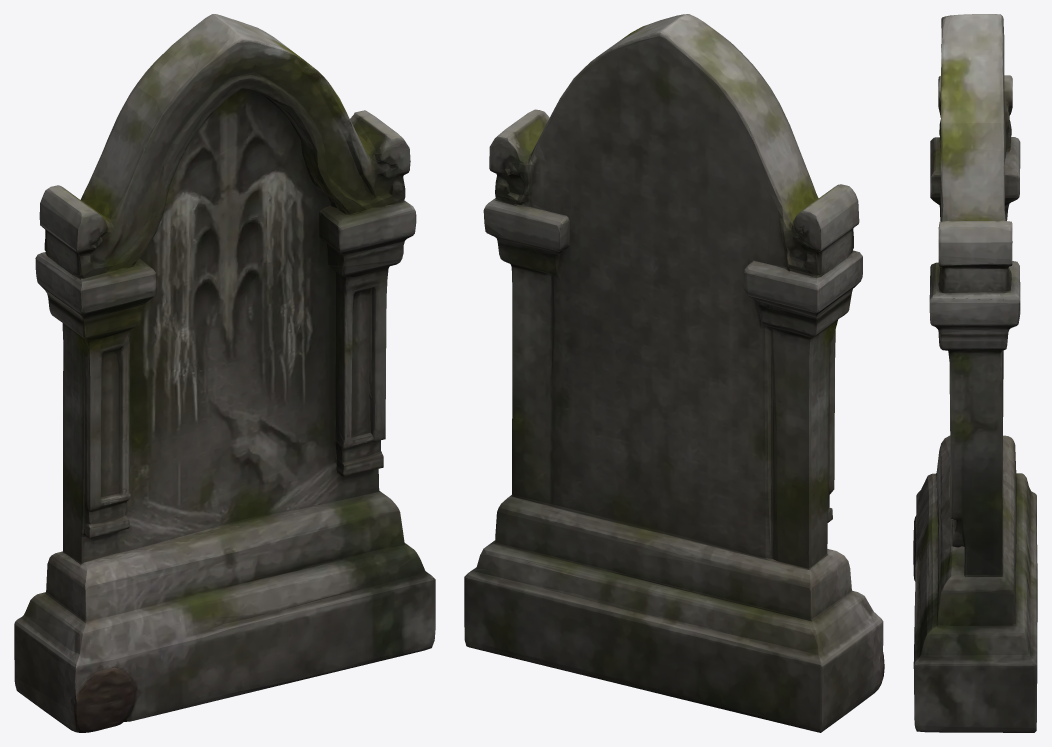
Rendered from tombstone_willow.glb.
3 views of the same model, side by side, from view 1: azimuth 30°, elevation 25°; view 2: azimuth 150°, elevation 25°; view 3: azimuth 270°, elevation 25° (orthographic). The views are drawn at different scales.
Parts seen in each view (by area): view 1: geometry_0; view 2: geometry_0; view 3: geometry_0.
Part boxes in pixels (left/top/right/bottom): geometry_0: left=14, top=14, right=435, bottom=732; geometry_0: left=464, top=14, right=884, bottom=732; geometry_0: left=913, top=14, right=1037, bottom=732.
Size of the model in its own units: 0.582 by 0.9996 by 0.1776.
1 material, 1 textured.
